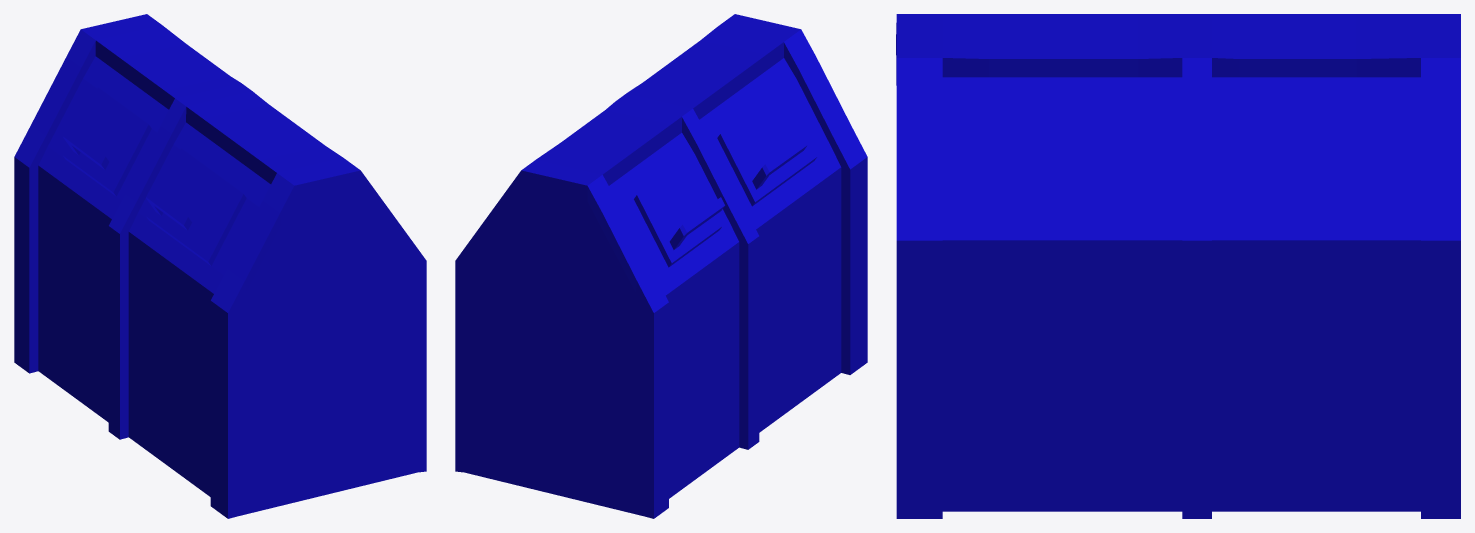
The model's file is trashbox.fbx.
The picture shows the model from 3 angles, left to right: view 1: azimuth 30°, elevation 25°; view 2: azimuth 150°, elevation 25°; view 3: azimuth 270°, elevation 25°; orthographic projection. The views are drawn at different scales.
Parts seen in each view (by area): view 1: Cube; view 2: Cube; view 3: Cube.
Part boxes in pixels (x1,y1,x2,y2): Cube: [14, 14, 426, 518]; Cube: [455, 14, 867, 518]; Cube: [896, 14, 1460, 518].
Bounding box in the file's own units: 21.35 × 32.68 × 39.84.
